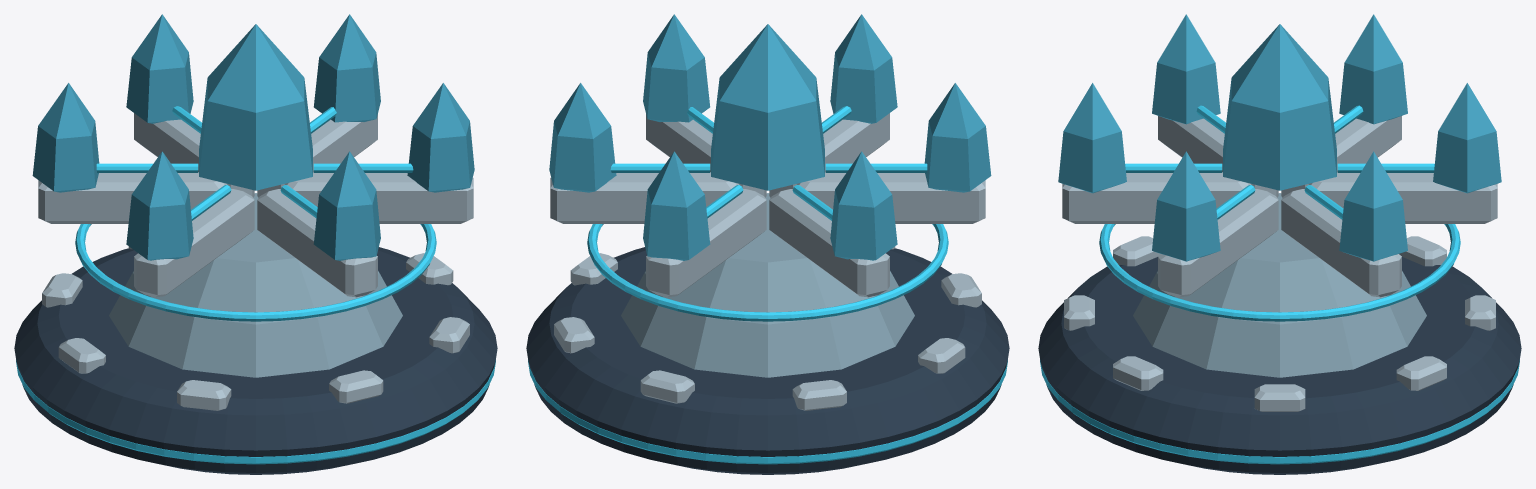
The model's file is frostsigil.obj.
3 renders of one model, left to right at view 1: azimuth 30°, elevation 25°; view 2: azimuth 150°, elevation 25°; view 3: azimuth 270°, elevation 25°, orthographic.
Parts seen in each view (by area): view 1: frostsigil; view 2: frostsigil; view 3: frostsigil.
Boxes of the visible parts, left/top/right/bottom form: frostsigil: left=14, top=14, right=497, bottom=474; frostsigil: left=526, top=14, right=1009, bottom=474; frostsigil: left=1038, top=14, right=1521, bottom=474.
Bounding box in the file's own units: 0.294 × 0.247 × 0.294.
